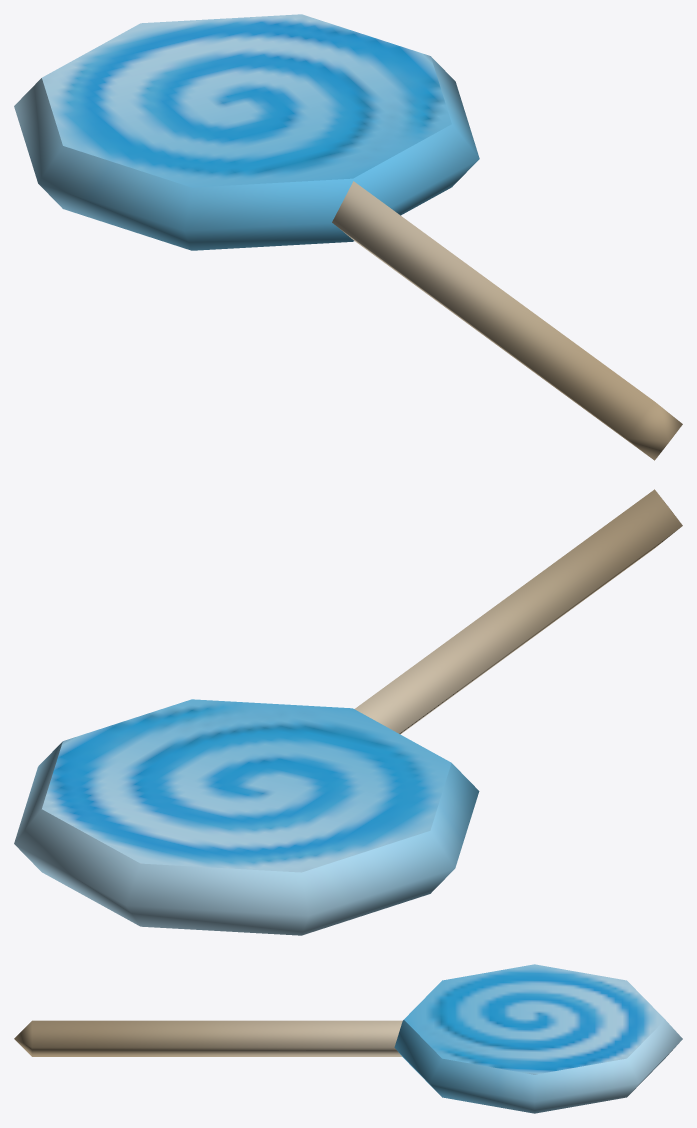
Rendered from Candy_B.fbx.
The picture shows the model from 3 angles, top to bottom: view 1: azimuth 30°, elevation 25°; view 2: azimuth 150°, elevation 25°; view 3: azimuth 270°, elevation 25°; orthographic projection. The views are drawn at different scales.
Parts seen in each view (by area): view 1: Candy_B; view 2: Candy_B; view 3: Candy_B.
Boxes of the visible parts, x1=… form: Candy_B: x1=14, y1=14, x2=682, y2=460; Candy_B: x1=14, y1=489, x2=682, y2=935; Candy_B: x1=14, y1=964, x2=682, y2=1113.
Bounding box in the file's own units: 3.46 × 0.4998 × 7.79.
